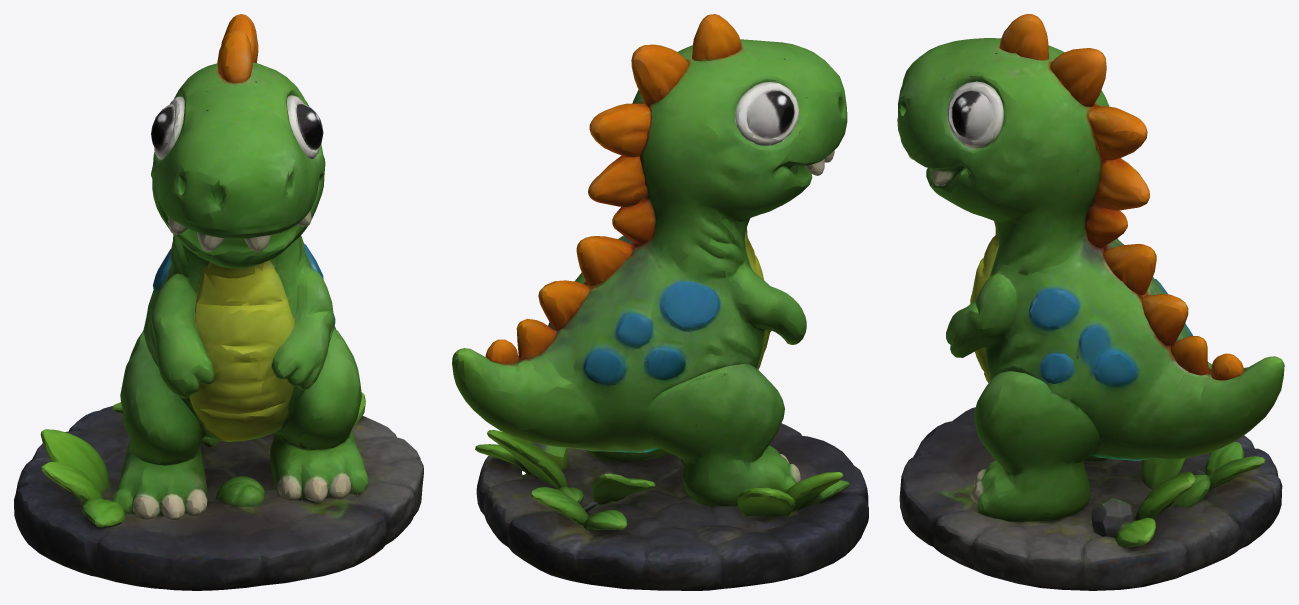
File: step_07_final.glb
3 views of the same model, side by side, from view 1: azimuth 30°, elevation 25°; view 2: azimuth 150°, elevation 25°; view 3: azimuth 270°, elevation 25° (orthographic). The views are drawn at different scales.
Visible parts, largest first — view 1: Model; view 2: Model; view 3: Model.
Part boxes in pixels (left/top/right/bottom): Model: left=14, top=14, right=423, bottom=590; Model: left=452, top=14, right=868, bottom=590; Model: left=897, top=14, right=1284, bottom=590.
Size of the model in its own units: 1.21 by 1.6 by 1.15.
1 material, 1 textured.
